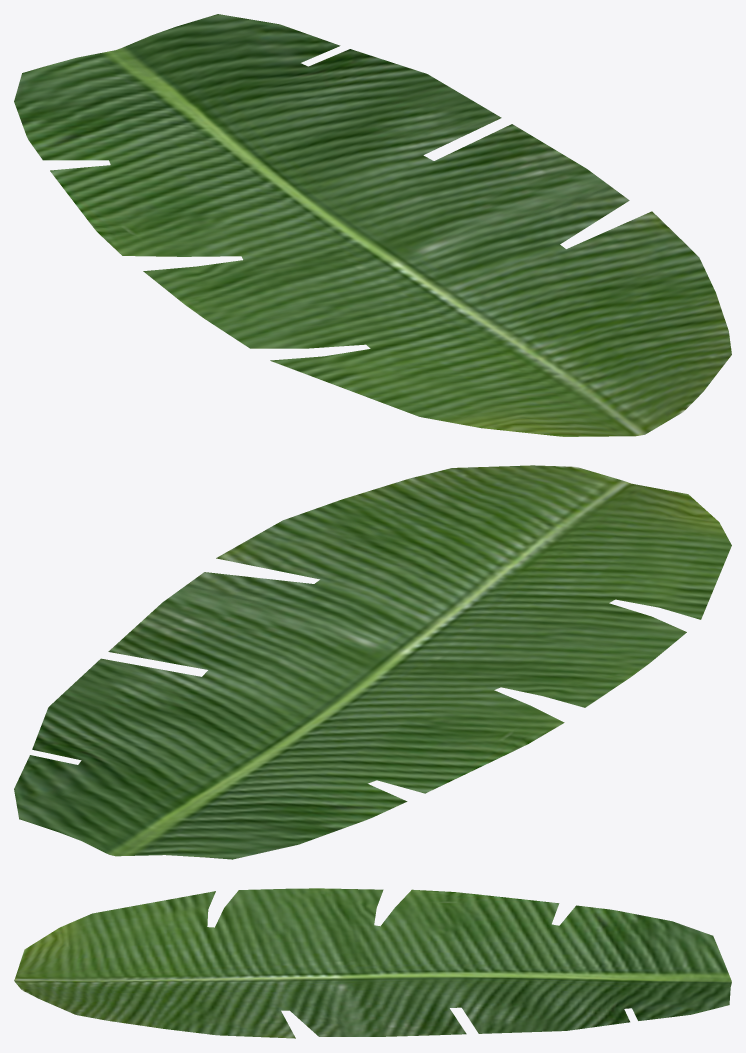
Rendered from indian_traditional_banana_leaf.glb.
3 renders of one model, top to bottom at view 1: azimuth 30°, elevation 25°; view 2: azimuth 150°, elevation 25°; view 3: azimuth 270°, elevation 25°, orthographic. The views are drawn at different scales.
Parts seen in each view (by area): view 1: Object_2; view 2: Object_2; view 3: Object_2.
Part boxes in pixels (box(x1,y1,x2,y2)): Object_2: box(14, 14, 731, 436); Object_2: box(14, 465, 731, 859); Object_2: box(14, 888, 731, 1038).
Size of the model in its own units: 17.07 by 0.7927 by 34.78.
1 material, 1 textured.
